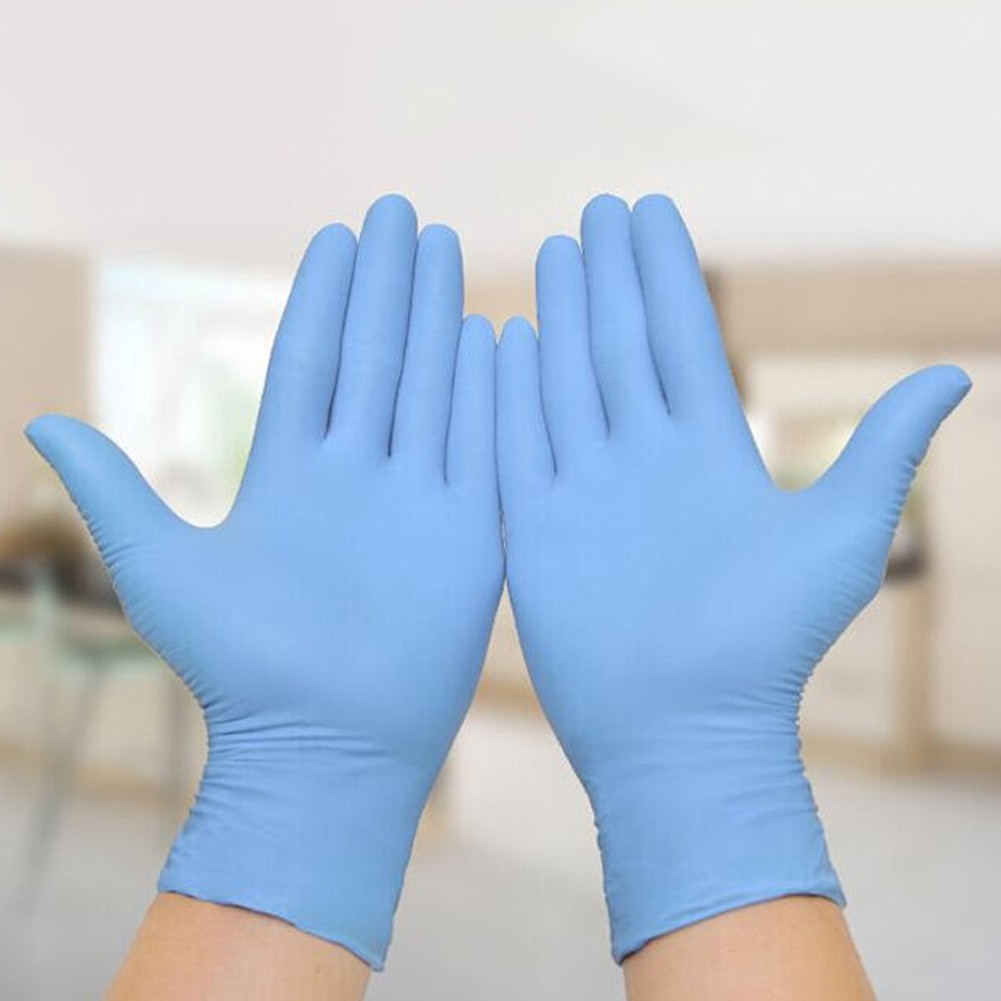Gloves: (23, 191, 499, 954), (500, 182, 973, 913)
